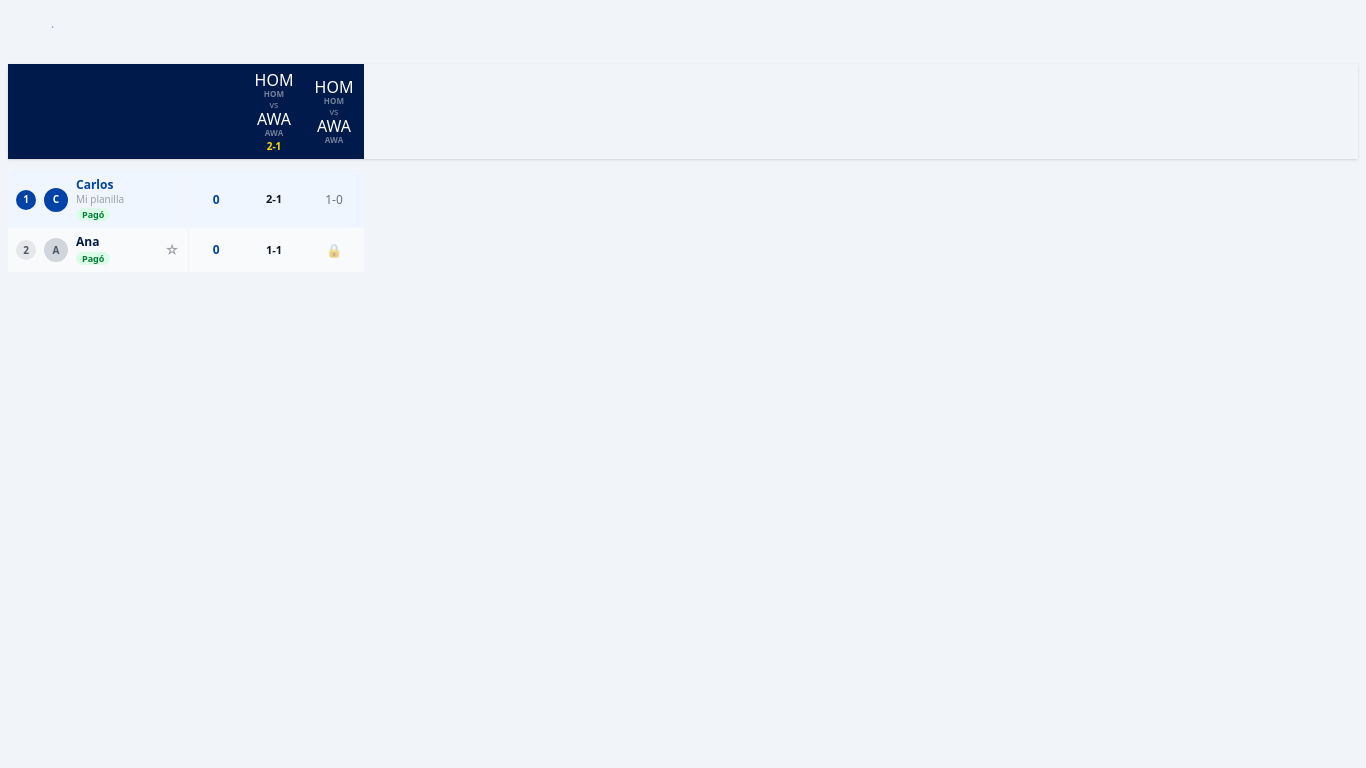
Scenario: Matriz — modal de período de veda › click en 🔒 abre el modal de veda
Expected: the text "Carlos" is shown, [76,176,113,193]
Click the button titled "Período de veda activo" at point(334, 250), box [326,242,342,259]
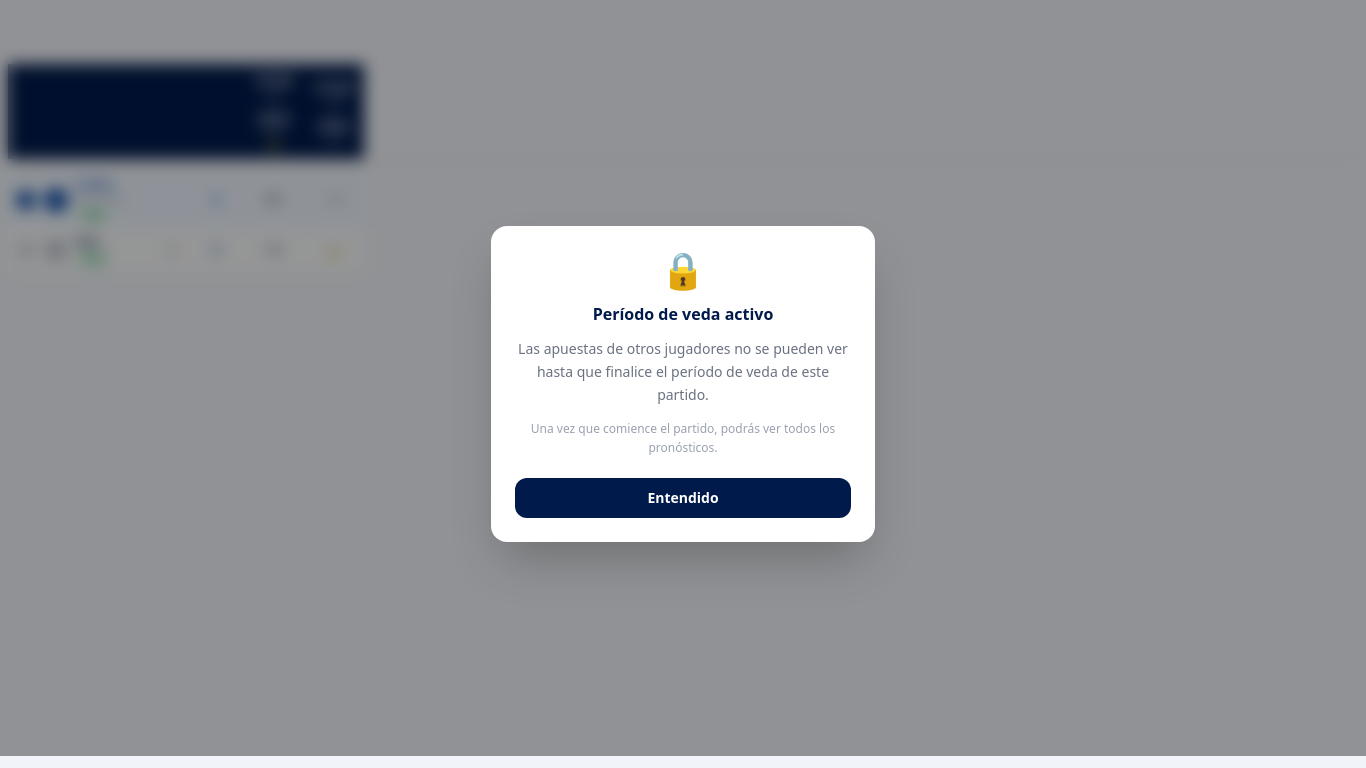
Expected: the button "Entendido" is shown, [515,478,851,518]
